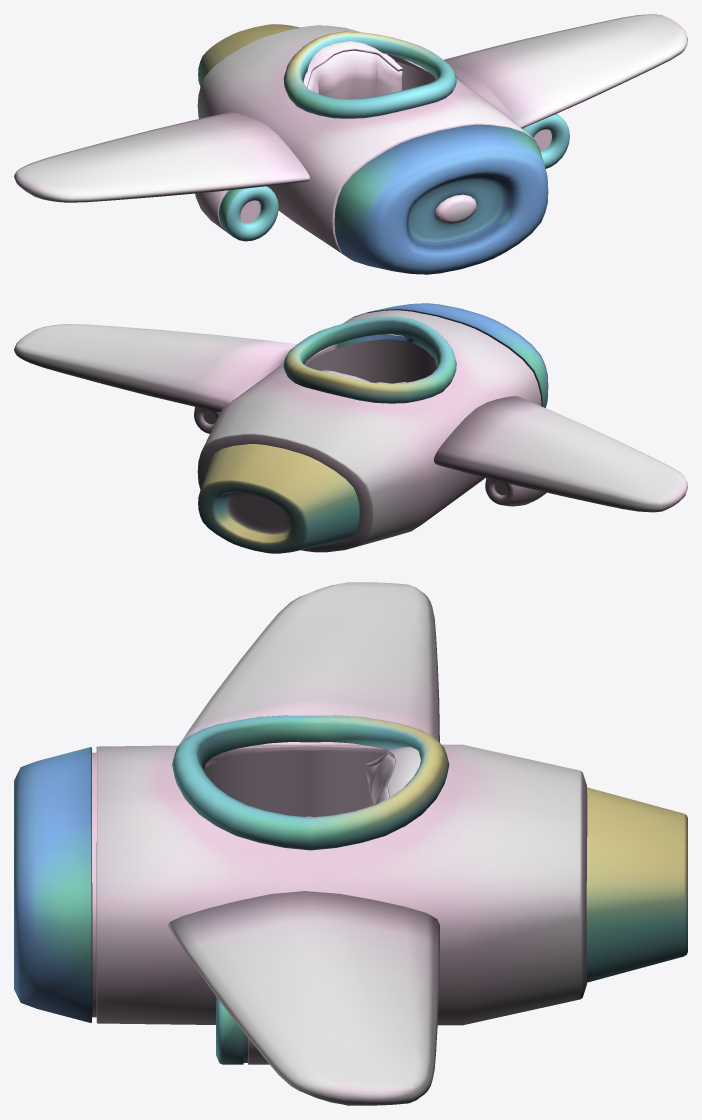
The model's file is ToonSpaceship_v3.glb.
3 views of the same model, one above another, from view 1: azimuth 30°, elevation 25°; view 2: azimuth 150°, elevation 25°; view 3: azimuth 270°, elevation 25° (orthographic). The views are drawn at different scales.
Visible parts, largest first — view 1: Vehicle.043, Vehicle.039, Vehicle.034, Vehicle.036, Vehicle.081, Vehicle.031, Vehicle.044, Vehicle.041, Vehicle.047, Vehicle.028, Vehicle.032, Vehicle.004 (+1 smaller); view 2: Vehicle.039, Vehicle.034, Vehicle.036, Vehicle.041, Vehicle.081, Vehicle.009, Vehicle.042, Vehicle.043, Vehicle.010, Vehicle.040, Vehicle.004, Vehicle.003; view 3: Vehicle.039, Vehicle.036, Vehicle.034, Vehicle.043, Vehicle.081, Vehicle.041, Vehicle.009, Vehicle.047, Vehicle.038, Vehicle.028, Vehicle.031.
Boxes of the visible parts, bbox=[...] form: Vehicle.043: bbox=[334, 124, 548, 274]; Vehicle.039: bbox=[197, 25, 533, 259]; Vehicle.034: bbox=[14, 112, 309, 202]; Vehicle.036: bbox=[444, 14, 687, 128]; Vehicle.081: bbox=[283, 31, 456, 118]; Vehicle.031: bbox=[307, 50, 402, 98]; Vehicle.044: bbox=[218, 186, 278, 241]; Vehicle.041: bbox=[198, 24, 357, 86]; Vehicle.047: bbox=[522, 114, 569, 168]; Vehicle.028: bbox=[303, 41, 402, 87]; Vehicle.032: bbox=[439, 198, 476, 223]; Vehicle.004: bbox=[195, 190, 227, 231]; Vehicle.039: bbox=[197, 310, 541, 552]; Vehicle.034: bbox=[434, 396, 687, 512]; Vehicle.036: bbox=[14, 324, 297, 412]; Vehicle.041: bbox=[200, 444, 359, 551]; Vehicle.081: bbox=[283, 316, 456, 403]; Vehicle.009: bbox=[305, 339, 436, 383]; Vehicle.042: bbox=[198, 479, 308, 553]; Vehicle.043: bbox=[337, 303, 548, 407]; Vehicle.010: bbox=[227, 491, 291, 533]; Vehicle.040: bbox=[215, 491, 291, 541]; Vehicle.004: bbox=[485, 478, 546, 506]; Vehicle.003: bbox=[485, 478, 514, 504]; Vehicle.039: bbox=[96, 744, 587, 1025]; Vehicle.036: bbox=[167, 891, 439, 1105]; Vehicle.034: bbox=[179, 582, 439, 744]; Vehicle.043: bbox=[14, 747, 92, 1022]; Vehicle.081: bbox=[172, 715, 449, 850]; Vehicle.041: bbox=[586, 787, 684, 982]; Vehicle.009: bbox=[204, 750, 381, 817]; Vehicle.047: bbox=[216, 996, 243, 1064]; Vehicle.038: bbox=[92, 752, 96, 1017]; Vehicle.028: bbox=[366, 747, 420, 797]; Vehicle.031: bbox=[366, 754, 395, 806].
Bounding box in the file's own units: 2.74 × 0.6003 × 1.52.
Materials: 2 (2 with a texture image).
